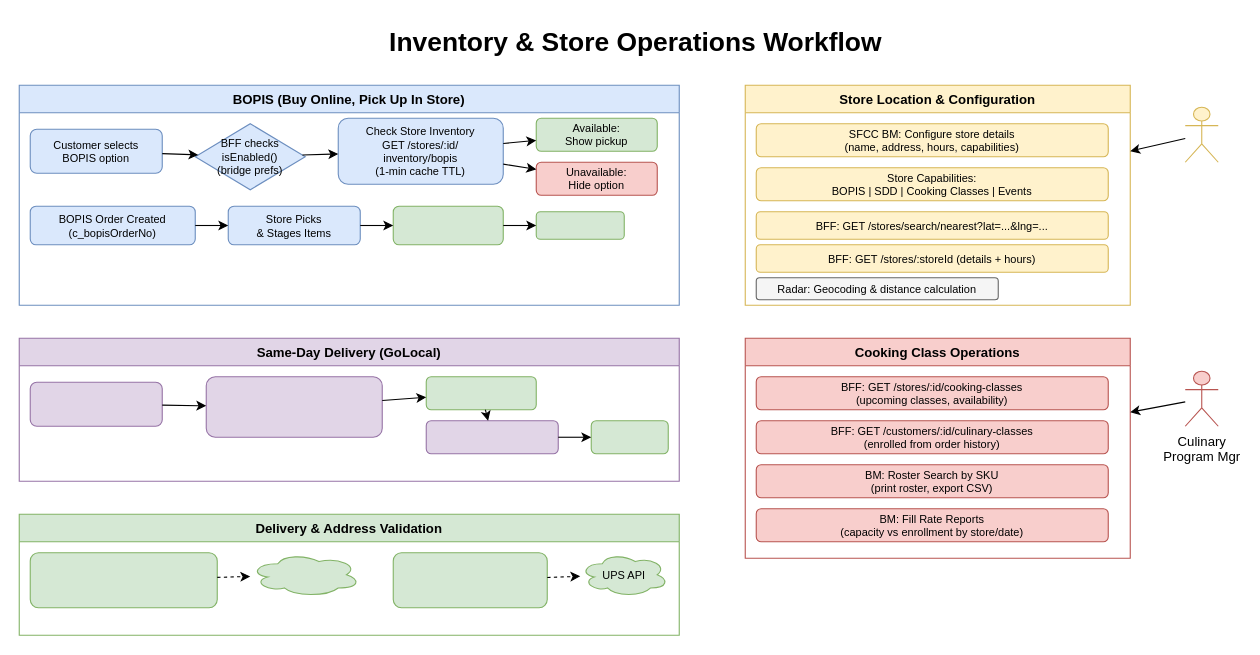
This 1260x655 diagram has some shape labels left out. The shapes that lost their labels are listed below. From the top down, each one's centre as x and y in pixels, then its label:
(x=1201, y=134): Store Ops Manager
(x=447, y=225): Customer Picks Up
(x=579, y=225): Fulfilled
(x=95, y=403): Customer enters delivery address
(x=293, y=406): Check SDD Eligibility GET /stores/inventory/ same-day-delivery ?lat=...&lng=...
(x=480, y=393): Available: Show SDD
(x=491, y=437): Store dispatches via GoLocal
(x=629, y=437): Delivered same day
(x=123, y=580): Delivery Date Estimate GET /delivery/estimated- delivery-date?zip=...
(x=304, y=574): FedEx API
(x=469, y=580): Address Validation POST /delivery/ validate-address
